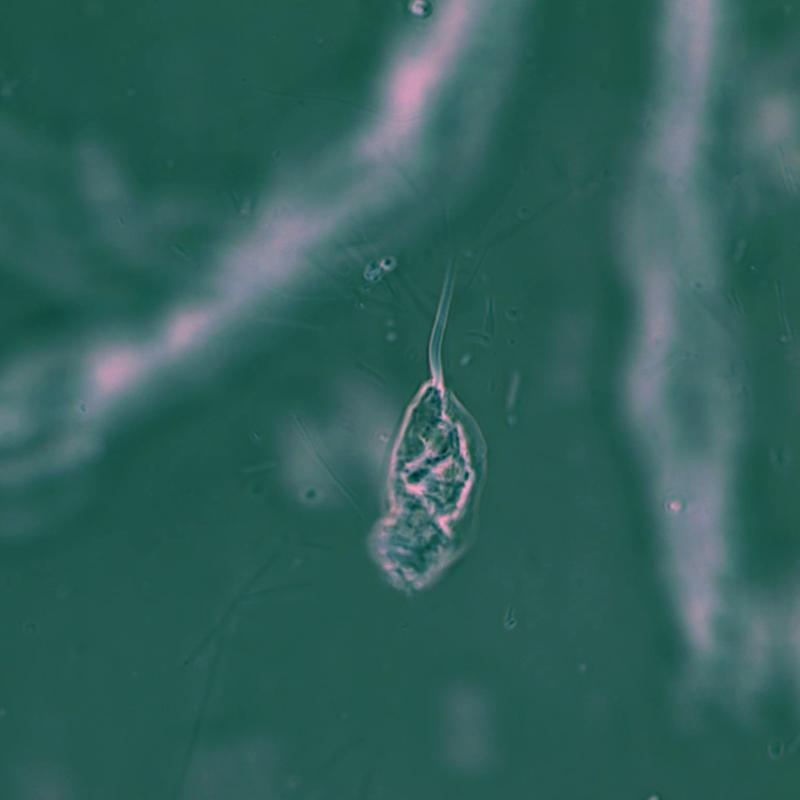depth:20: (355, 253, 533, 601)
